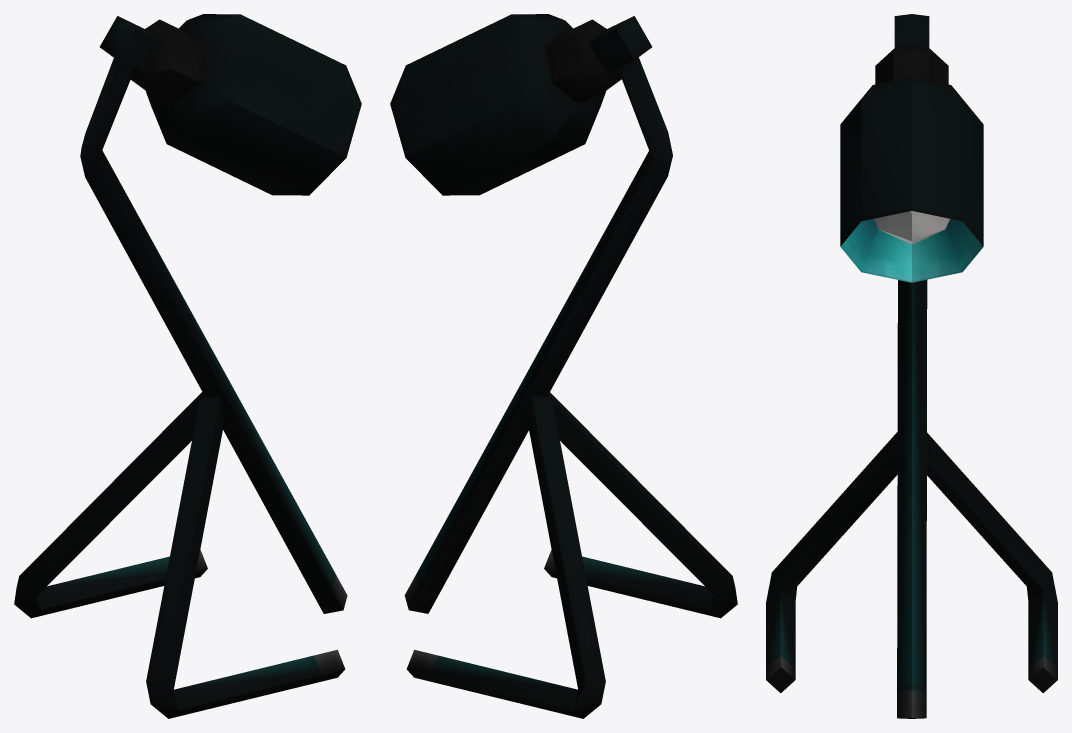
The model's file is tiny_the_modern_desk_lamp.glb.
The picture shows the model from 3 angles, left to right: view 1: azimuth 30°, elevation 25°; view 2: azimuth 150°, elevation 25°; view 3: azimuth 270°, elevation 25°; orthographic projection. The views are drawn at different scales.
Parts seen in each view (by area): view 1: Object_48; view 2: Object_48; view 3: Object_48.
Boxes of the visible parts, x1=… form: Object_48: x1=14, y1=14, x2=361, y2=718; Object_48: x1=390, y1=14, x2=737, y2=718; Object_48: x1=766, y1=14, x2=1057, y2=718.
Bounding box in the file's own units: 0.358 × 0.817 × 0.3538.
1 material, 1 textured.
